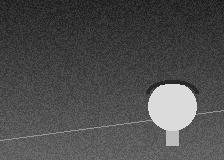no_helmet: (148, 80, 196, 135)
